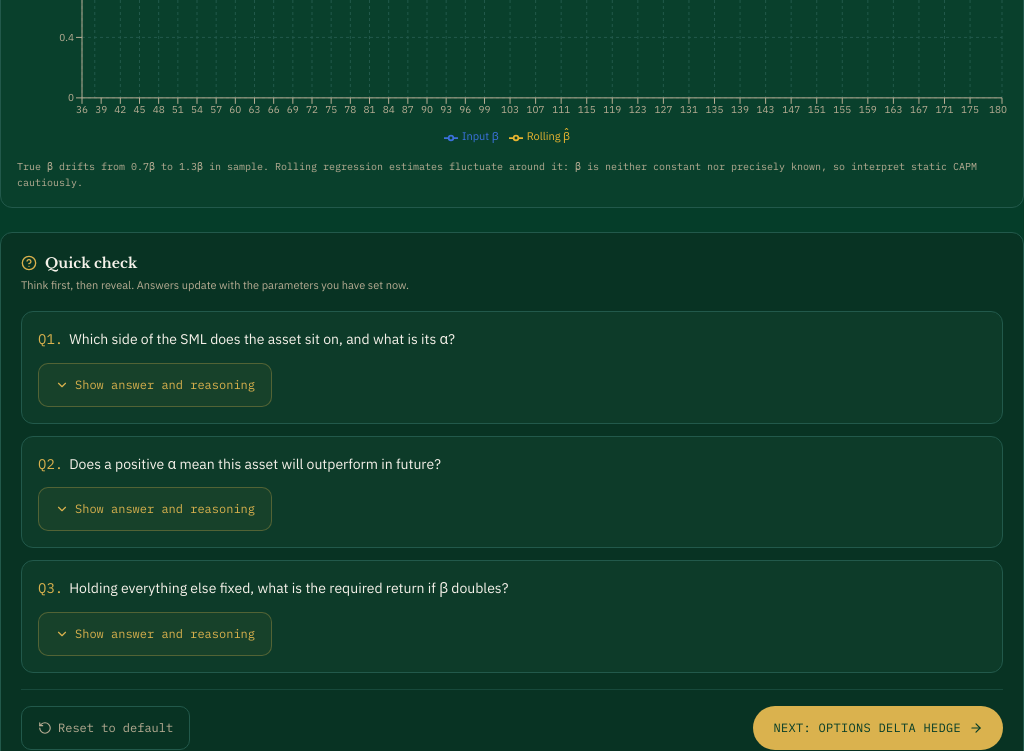
Scenario: path controls after the polish pass › switching language relabels the answer toggle and keeps it open
Later steps or results of the test are not shown.
(page scrolled)
Click the 1st button "Show answer and reasoning" at (155, 385), box [38, 363, 272, 407]
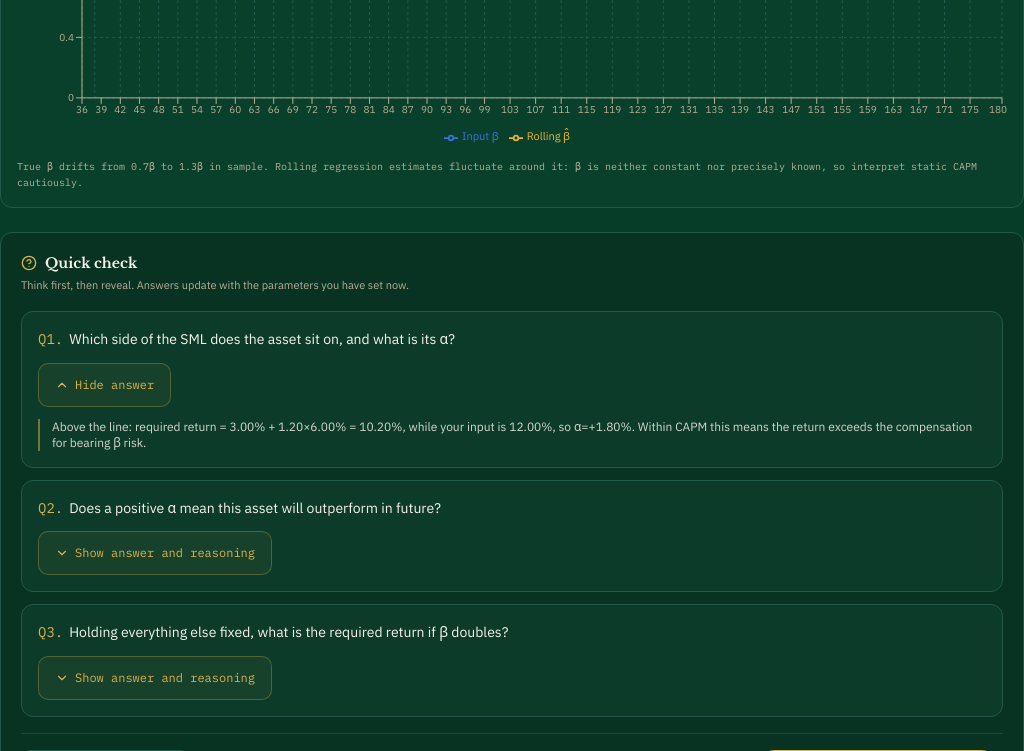
Expected: the button named "Show answer and reasoning" is expanded, [38, 363, 171, 407]
